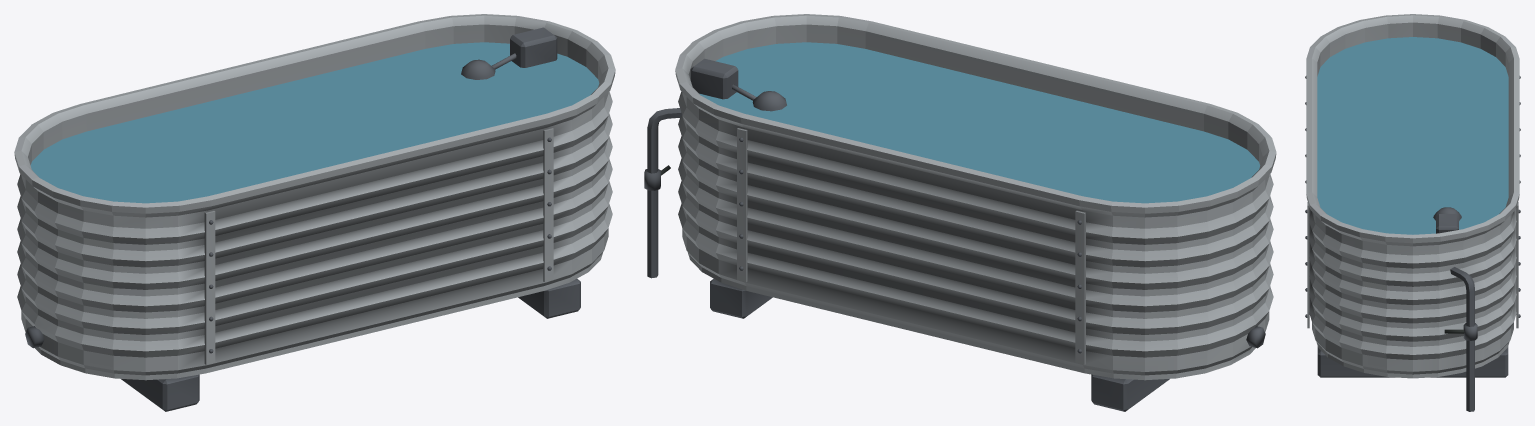
Rendered from trough.glb.
The picture shows the model from 3 angles, left to right: view 1: azimuth 30°, elevation 25°; view 2: azimuth 150°, elevation 25°; view 3: azimuth 270°, elevation 25°; orthographic projection. The views are drawn at different scales.
Parts seen in each view (by area): view 1: trough; view 2: trough; view 3: trough.
Boxes of the visible parts, box(x1,y1,x2,y2) form: trough: box(14, 14, 615, 411); trough: box(644, 14, 1276, 411); trough: box(1305, 14, 1520, 411).
Bounding box in the file's own units: 1.88 × 0.655 × 0.748.
